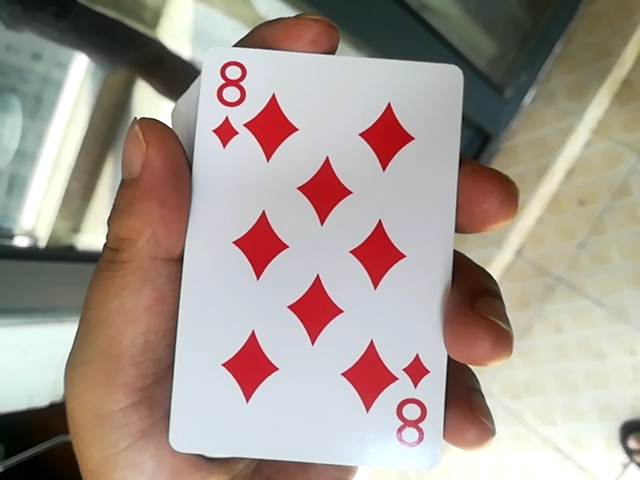fk 8: (174, 44, 460, 467)
